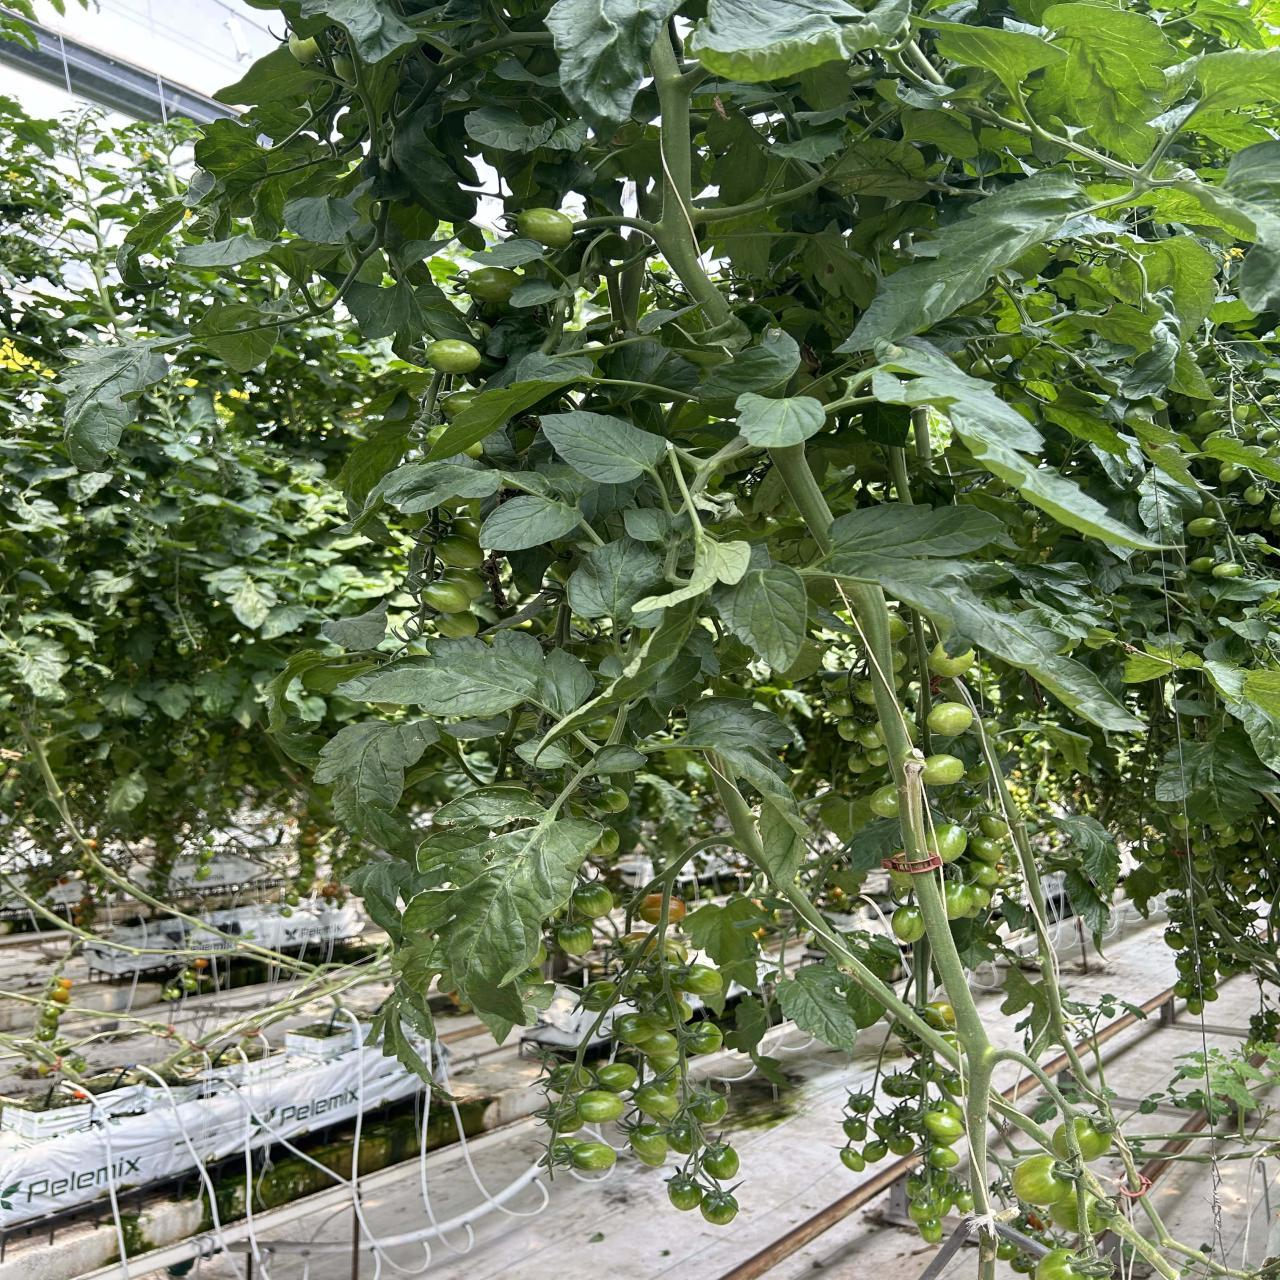Hoja: (839, 171, 1083, 352), (811, 504, 1009, 618), (712, 565, 808, 672), (542, 411, 667, 484), (567, 538, 665, 627), (376, 459, 502, 513), (193, 304, 278, 372), (479, 496, 583, 551), (735, 393, 825, 449), (284, 185, 369, 243), (177, 234, 277, 268), (624, 509, 680, 542), (517, 736, 571, 769), (594, 744, 647, 772)
Hoja rugoso: (872, 339, 1164, 550), (403, 811, 602, 990), (944, 591, 1144, 731), (339, 631, 593, 717), (314, 720, 440, 860), (776, 965, 857, 1051), (433, 787, 544, 830)
Pedunculo: (838, 579, 996, 1214), (704, 749, 960, 1070), (651, 16, 748, 347), (769, 440, 833, 558)
Tomate: (618, 1014, 679, 1073), (1012, 1156, 1067, 1206), (517, 207, 573, 247), (425, 339, 481, 374), (465, 267, 520, 302), (634, 1078, 680, 1121), (661, 1112, 704, 1155), (629, 1124, 669, 1166), (1073, 1118, 1111, 1162), (945, 880, 987, 919), (689, 1082, 727, 1124), (577, 1090, 625, 1123), (435, 536, 483, 568), (421, 581, 470, 613), (701, 1141, 740, 1180), (927, 702, 972, 736), (924, 1108, 965, 1144), (1034, 1251, 1084, 1280), (675, 964, 722, 994), (1049, 1186, 1078, 1233), (922, 754, 966, 785), (700, 1190, 738, 1225), (934, 824, 967, 864), (967, 835, 1007, 867), (572, 1142, 617, 1171), (667, 1175, 702, 1211), (686, 1021, 722, 1055), (892, 906, 925, 942), (436, 611, 478, 639), (597, 1063, 636, 1092), (552, 1062, 594, 1089), (447, 572, 485, 599), (870, 785, 899, 818), (1087, 1191, 1108, 1233), (971, 862, 1000, 890), (979, 813, 1009, 840), (928, 1148, 960, 1170), (859, 722, 885, 749), (840, 1144, 865, 1172), (1186, 517, 1220, 537), (860, 1139, 888, 1163), (1053, 1123, 1070, 1159), (838, 716, 864, 741), (918, 1221, 944, 1245), (843, 1117, 867, 1141), (1219, 461, 1244, 483), (855, 680, 876, 706), (1212, 560, 1242, 578), (826, 697, 853, 716), (849, 1094, 873, 1114), (888, 1137, 915, 1155), (847, 753, 870, 774), (865, 747, 888, 767), (955, 1190, 973, 1214), (1244, 485, 1265, 505), (1189, 557, 1213, 573), (1022, 509, 1041, 524), (1268, 504, 1280, 527)
Tomate Rugoso: (633, 1033, 678, 1073), (572, 885, 614, 919), (556, 924, 593, 955), (287, 36, 321, 66), (590, 788, 629, 812), (638, 893, 661, 925), (669, 896, 687, 924), (1076, 263, 1096, 278)
